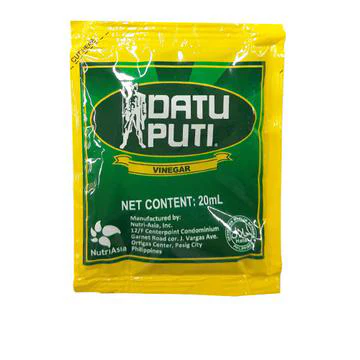non-toxic_waste: (71, 18, 282, 293)
